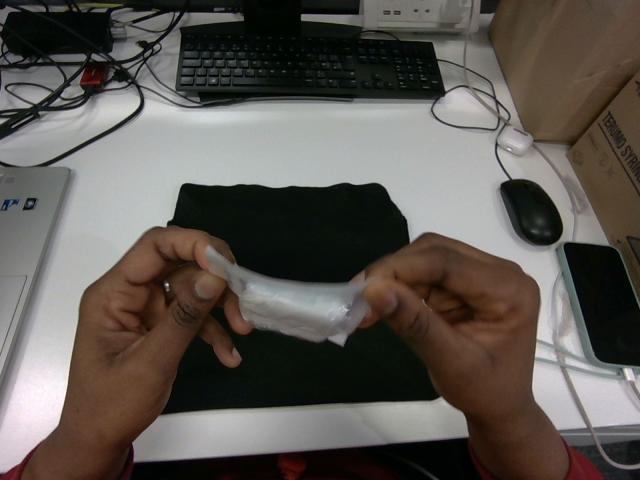gauze: (206, 247, 368, 345)
